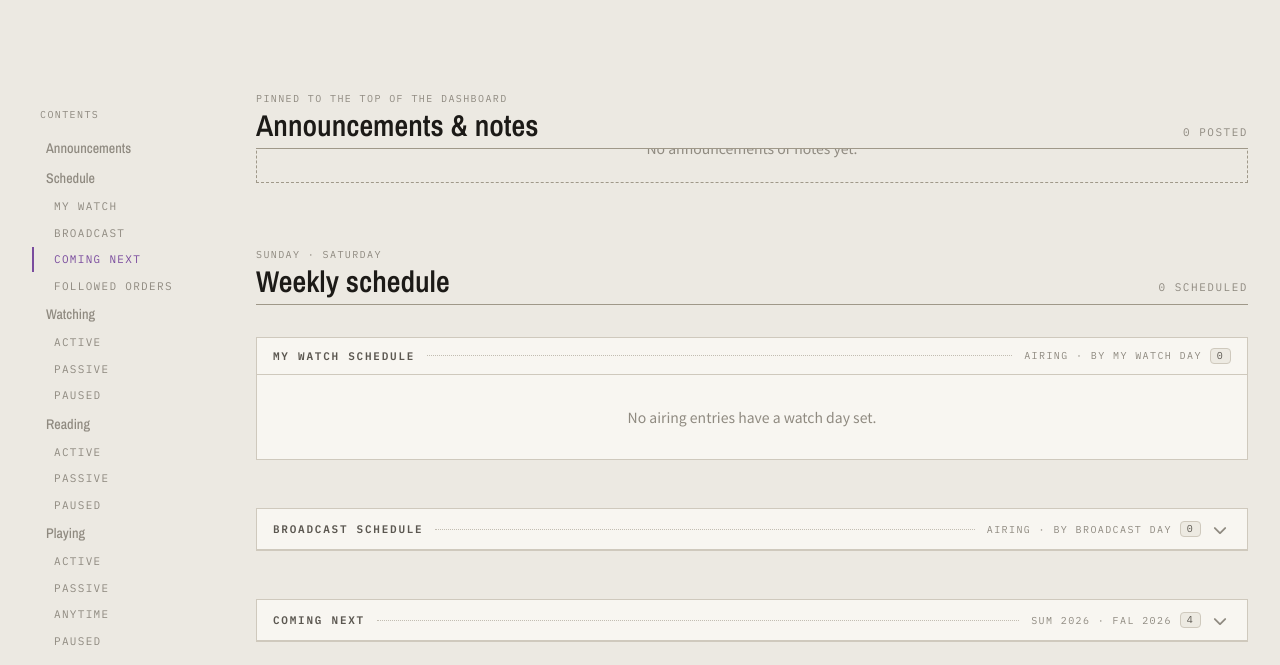
Test: opens onto next season's entries, grouped by type under each sub-section
Expected: the element showing "Coming next SUM 2026 · FAL 2026 4" is shown, [256,599,1248,642]
Expected: the text "SUM 2026 · FAL 2026" is shown, [1031,612,1172,628]
// Wait for the extra movie list before opening, so every group is present.
Click the button named "Expand" in the row of "FAL 2026": (1220, 620) [1209,610,1231,630]
(page scrolled)
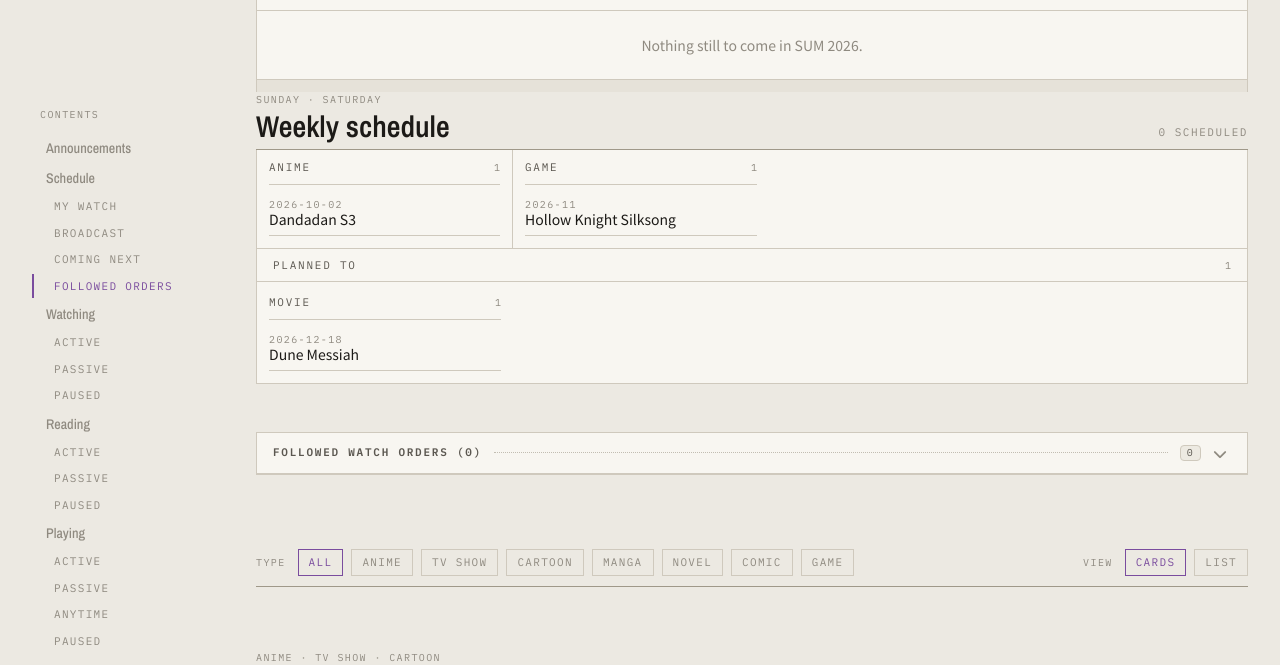
Expected: the heading "Anime" is shown, [269,159,311,176]
Expected: the text "Dandadan S3" is shown, [269,209,356,229]
Expected: the heading "Game" is shown, [525,159,558,176]
